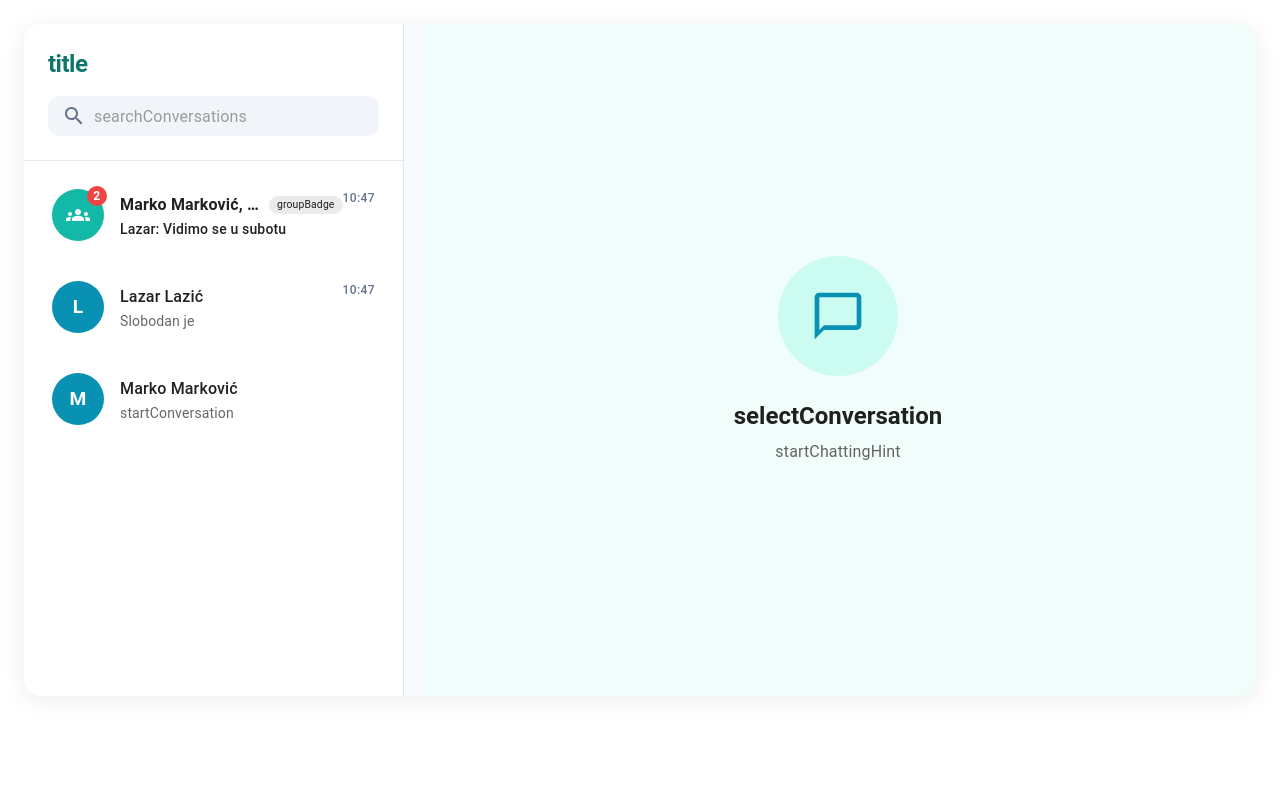
Test: ChatPage - shared conversations › can search the shared conversations by participant
Expected: the heading "Marko Marković, Lazar Lazić" is shown, [120,191,261,219]
Type "nikoga" into the field with placeholder "searchConversations". click: (236, 116)
box: [94,96,379,136]
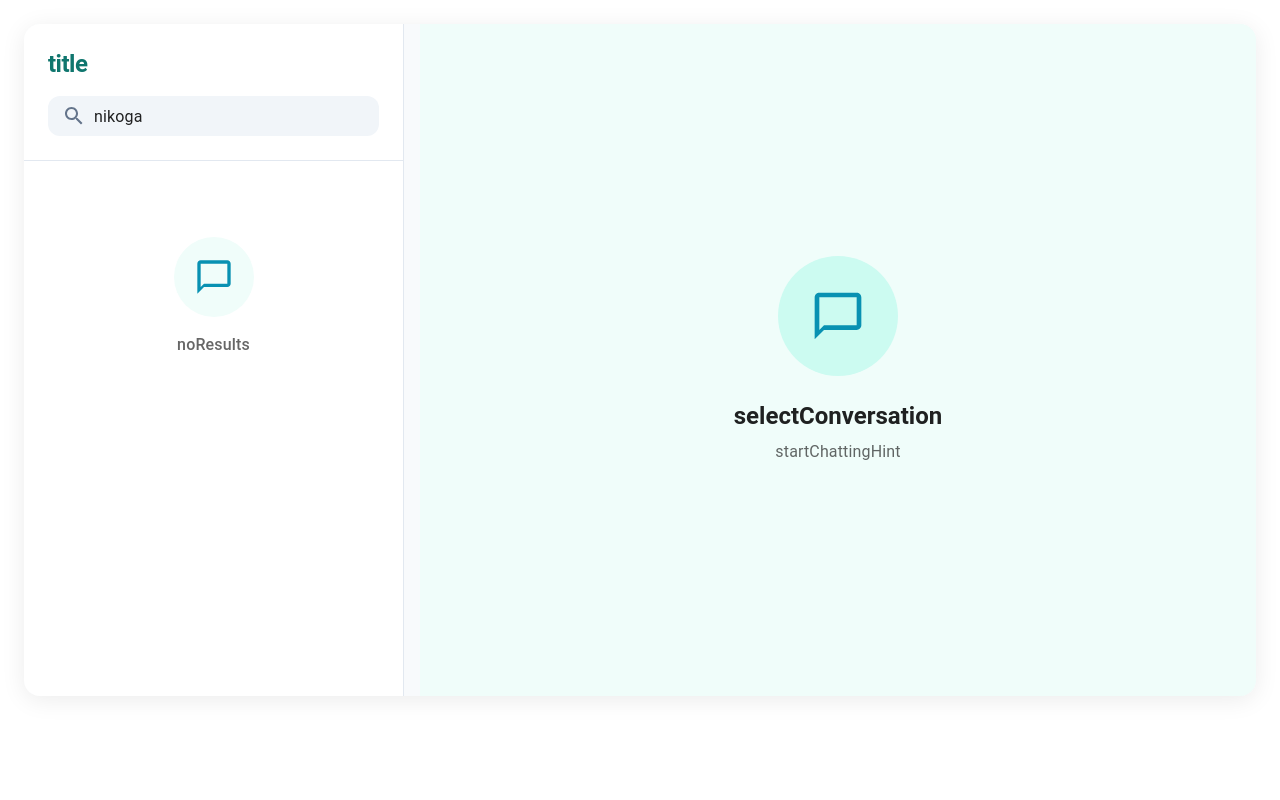
Expected: the button "Marko Marković, Lazar Lazić" is gone
Expected: the text "noResults" is shown, [177,335,250,354]
